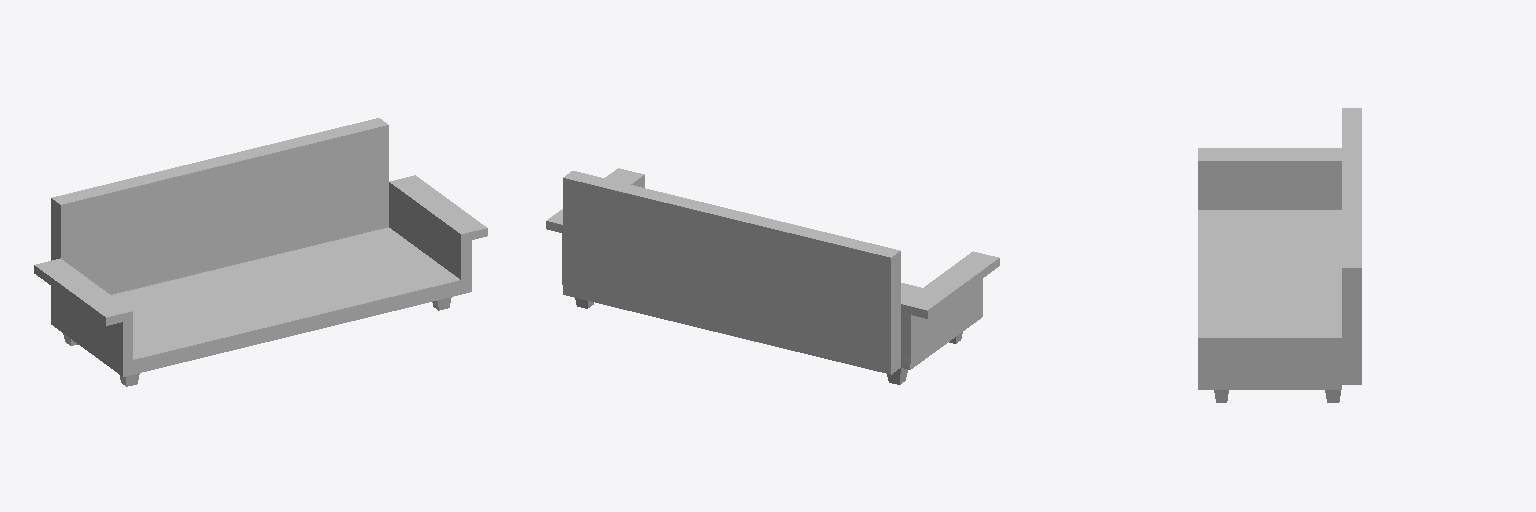
The model's file is Frame_sofa_zonder_kussens_Fixed.obj.
3 renders of one model, left to right at view 1: azimuth 30°, elevation 25°; view 2: azimuth 150°, elevation 25°; view 3: azimuth 270°, elevation 25°, orthographic.
Visible parts, largest first — view 1: Bank_frame; view 2: Bank_frame; view 3: Bank_frame.
Boxes of the visible parts, x1=… form: Bank_frame: x1=34, y1=118, x2=487, y2=386; Bank_frame: x1=546, y1=168, x2=999, y2=384; Bank_frame: x1=1198, y1=108, x2=1361, y2=402.
Bounding box in the file's own units: 56.72 × 19.39 × 21.1.